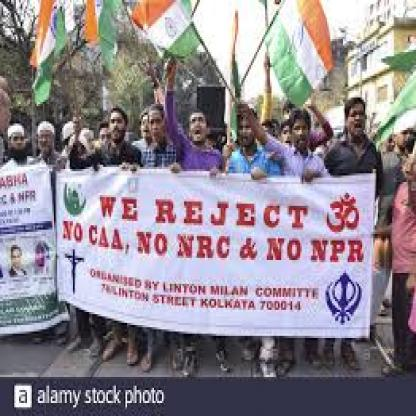BANNER: (52, 165, 387, 342)
